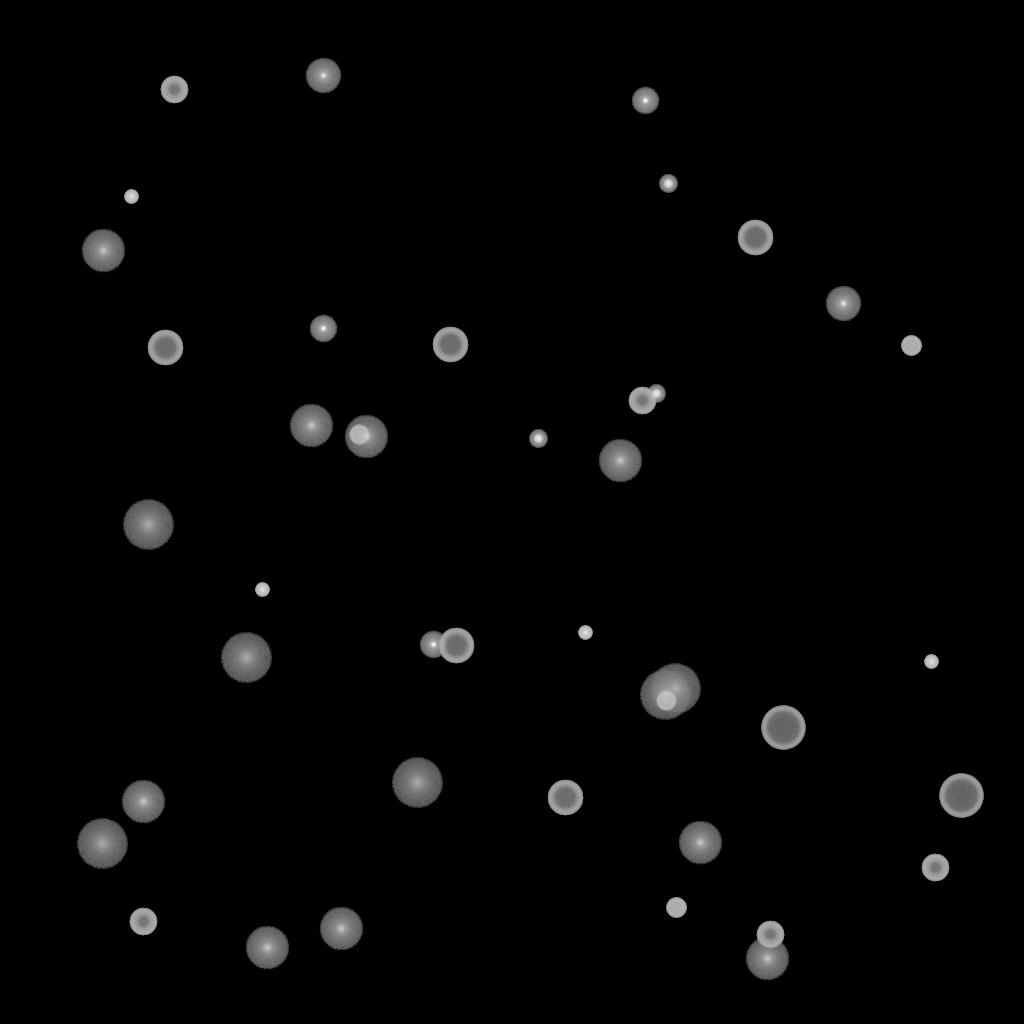depth:-10: (419, 631, 447, 659), (309, 315, 337, 343), (631, 87, 659, 115)
depth:-20: (659, 175, 677, 193), (529, 430, 547, 448), (647, 385, 665, 403)
depth:-30: (124, 190, 138, 204), (255, 583, 269, 597), (578, 626, 592, 640), (924, 655, 938, 669)
depth:-40: (349, 425, 369, 445), (666, 898, 686, 918), (656, 691, 676, 711), (901, 336, 921, 356)
depth:-50: (160, 76, 188, 104), (756, 921, 784, 949), (628, 387, 656, 415), (921, 854, 949, 882), (129, 908, 157, 936)
depth:-60: (737, 220, 773, 256), (432, 327, 468, 363), (147, 330, 183, 366), (438, 628, 474, 664), (547, 780, 583, 816)
depth:-70: (939, 774, 983, 818), (761, 706, 805, 750)
depth:0: (305, 58, 341, 94), (825, 286, 861, 322)
depth:10: (745, 937, 789, 981), (121, 780, 165, 824), (81, 229, 125, 273), (598, 439, 642, 483), (678, 821, 722, 865), (344, 415, 388, 459), (289, 404, 333, 448), (245, 926, 289, 970), (319, 907, 363, 951)
depth:20: (76, 819, 128, 869), (220, 633, 272, 683), (639, 670, 691, 720), (649, 664, 701, 714), (391, 758, 443, 808), (122, 500, 174, 550)
